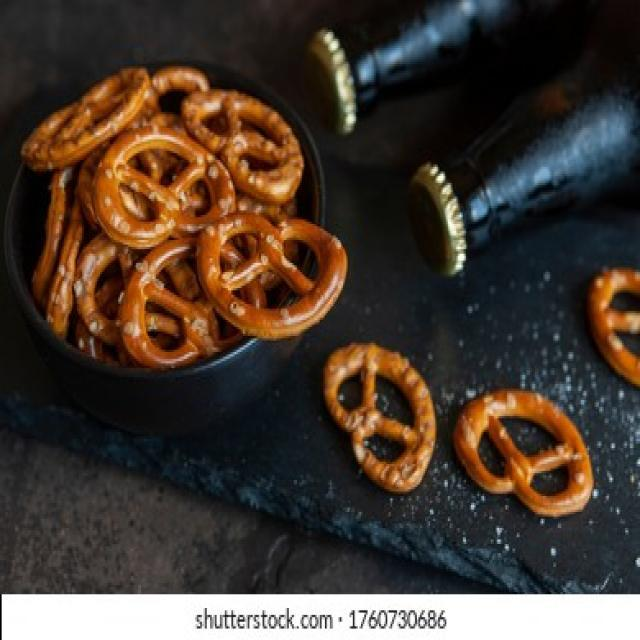Salatini: (20, 62, 348, 359), (452, 384, 598, 526), (322, 343, 438, 494)
